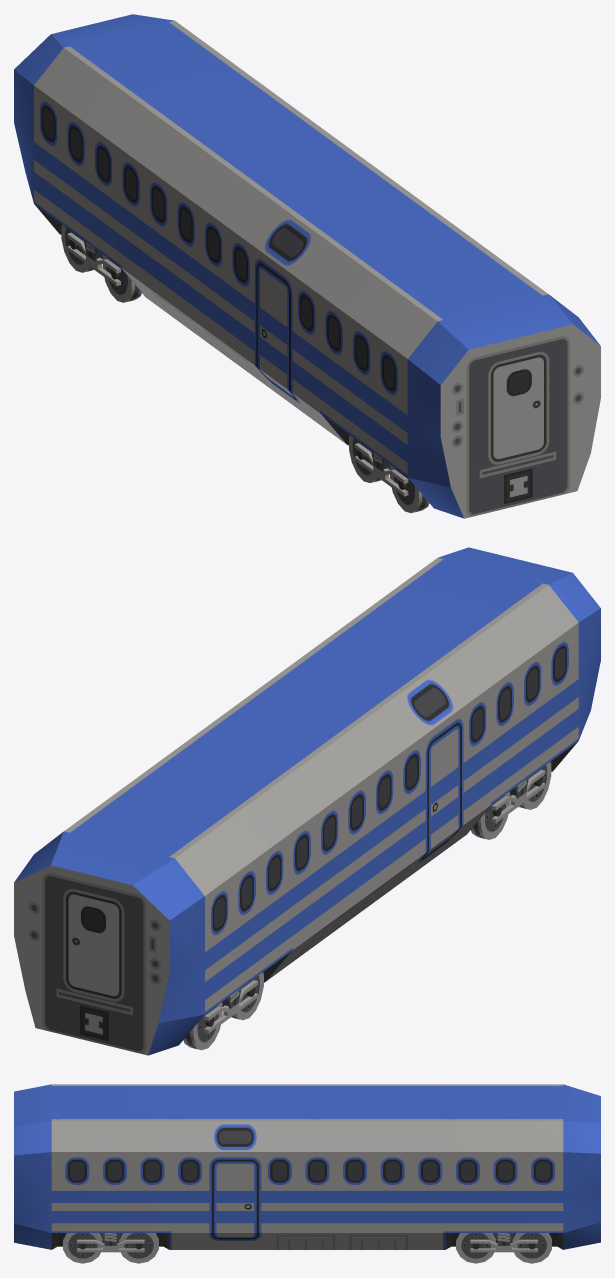
Rendered from Raiway carriage b.obj.
The picture shows the model from 3 angles, top to bottom: view 1: azimuth 30°, elevation 25°; view 2: azimuth 150°, elevation 25°; view 3: azimuth 270°, elevation 25°; orthographic projection. The views are drawn at different scales.
Visible parts, largest first — view 1: Railway_carriage_b, Wheel_a, Wheel_c; view 2: Railway_carriage_b, Wheel_d, Wheel_b; view 3: Railway_carriage_b, Wheel_e, Wheel_h, Wheel_f, Wheel_g.
Boxes of the visible parts, bbox=[...] form: Railway_carriage_b: bbox=[14, 14, 600, 518]; Wheel_a: bbox=[390, 465, 429, 513]; Wheel_c: bbox=[102, 255, 141, 302]; Railway_carriage_b: bbox=[14, 547, 600, 1055]; Wheel_d: bbox=[183, 1002, 222, 1050]; Wheel_b: bbox=[471, 792, 510, 839]; Railway_carriage_b: bbox=[14, 1084, 600, 1252]; Wheel_e: bbox=[456, 1233, 495, 1263]; Wheel_h: bbox=[119, 1233, 158, 1263]; Wheel_f: bbox=[512, 1233, 551, 1263]; Wheel_g: bbox=[63, 1233, 102, 1263].
Size of the model in its own units: 96.18 by 110 by 418.
1 material, 1 textured.
